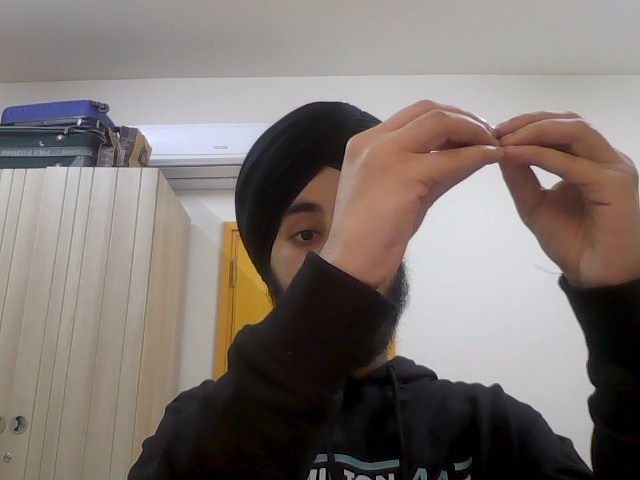More: (325, 99, 640, 297)
